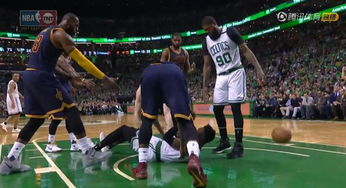10+: (1, 1, 346, 177)
down: (84, 110, 218, 165)
